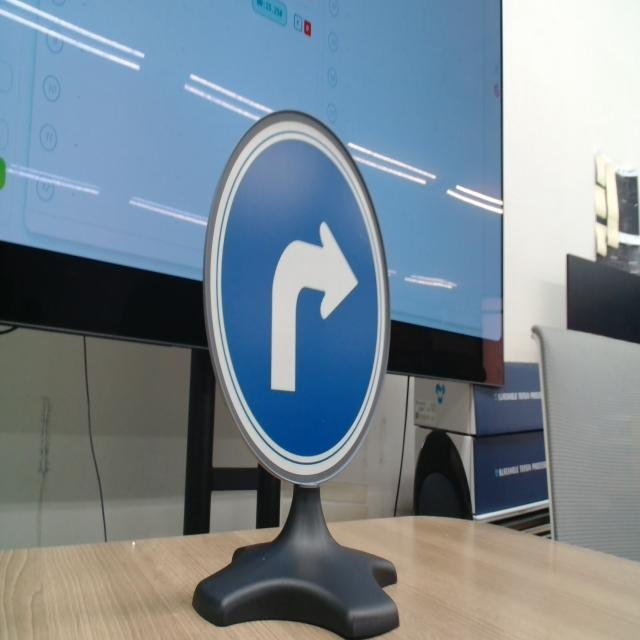right_dierection: (212, 103, 396, 486)
